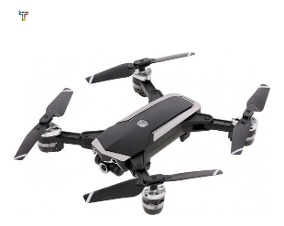drone: (13, 51, 271, 215)
